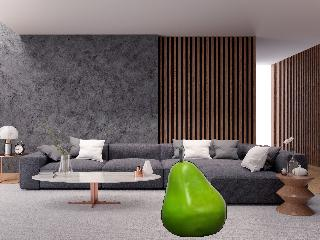pear: (160, 146, 227, 237)
